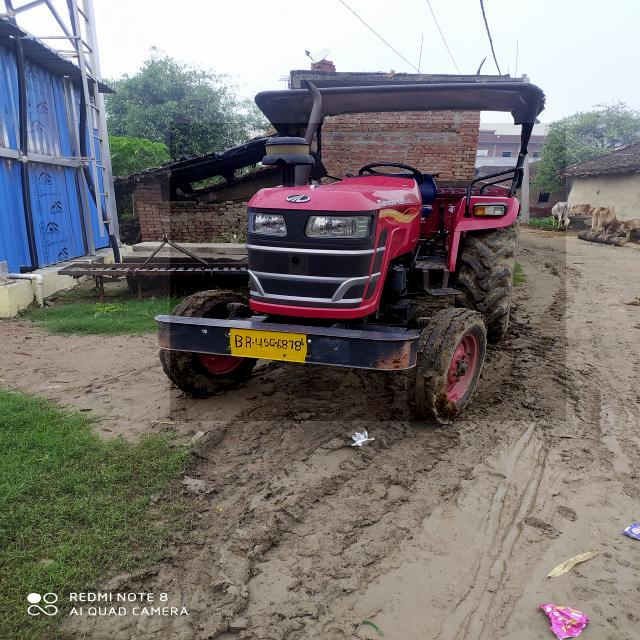Tractot: (170, 123, 566, 421)
